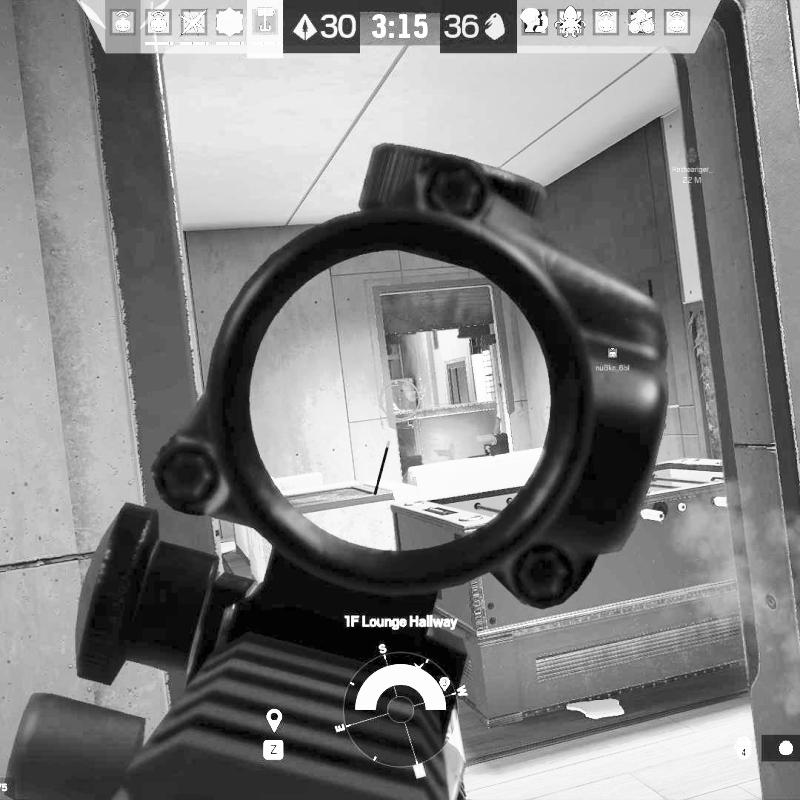Friend_label: (596, 345, 631, 372)
